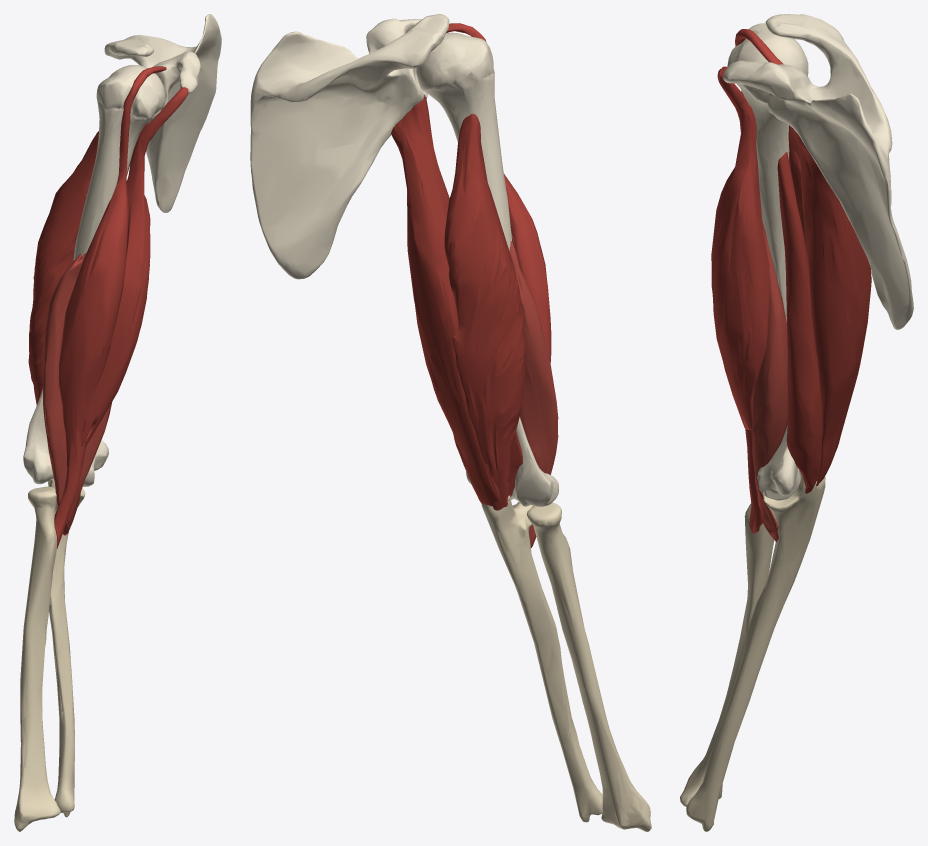
The model's file is arm.glb.
The picture shows the model from 3 angles, left to right: view 1: azimuth 30°, elevation 25°; view 2: azimuth 150°, elevation 25°; view 3: azimuth 270°, elevation 25°; orthographic projection. The views are drawn at different scales.
Parts seen in each view (by area): view 1: biceps, elbow, scapula, humerus, triceps, brachialis; view 2: triceps, scapula, elbow, humerus, brachialis, biceps; view 3: triceps, scapula, biceps, elbow, humerus, brachialis.
Part boxes in pixels (left/top/right/bottom): biceps: left=54, top=66, right=188, bottom=548; elbow: left=14, top=479, right=85, bottom=831; scapula: left=104, top=14, right=221, bottom=212; humerus: left=23, top=65, right=165, bottom=486; triceps: left=28, top=122, right=148, bottom=405; brachialis: left=43, top=253, right=111, bottom=535; triceps: left=391, top=95, right=525, bottom=510; scapula: left=250, top=14, right=449, bottom=279; elbow: left=481, top=495, right=651, bottom=831; humerus: left=416, top=32, right=558, bottom=506; brachialis: left=509, top=232, right=558, bottom=547; biceps: left=446, top=23, right=551, bottom=363; triceps: left=777, top=125, right=871, bottom=493; scapula: left=722, top=14, right=913, bottom=329; biceps: left=711, top=29, right=783, bottom=533; elbow: left=680, top=470, right=825, bottom=831; humerus: left=727, top=23, right=808, bottom=500; brachialis: left=752, top=221, right=787, bottom=541.
Bounding box in the file's own units: 1.06 × 2.6 × 0.63.
